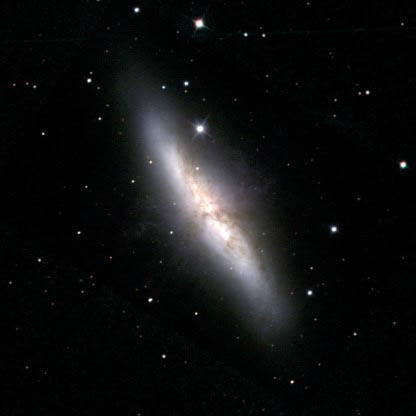Messier 82: (90, 53, 326, 358)
